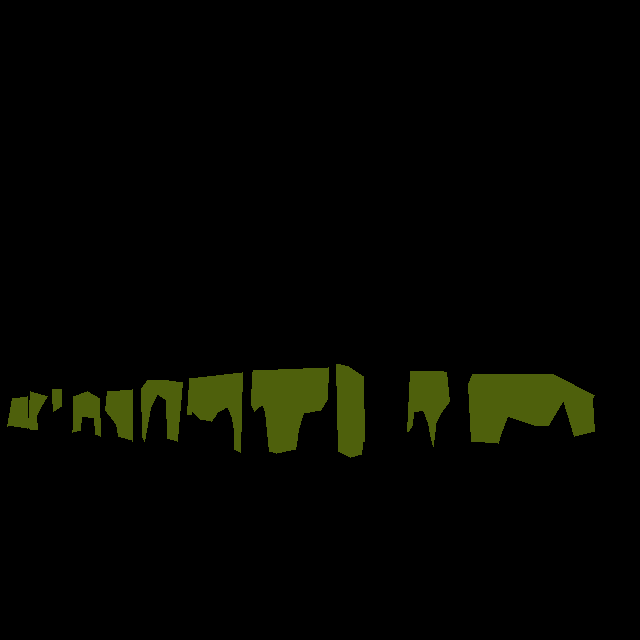Train: (7, 364, 595, 457)
